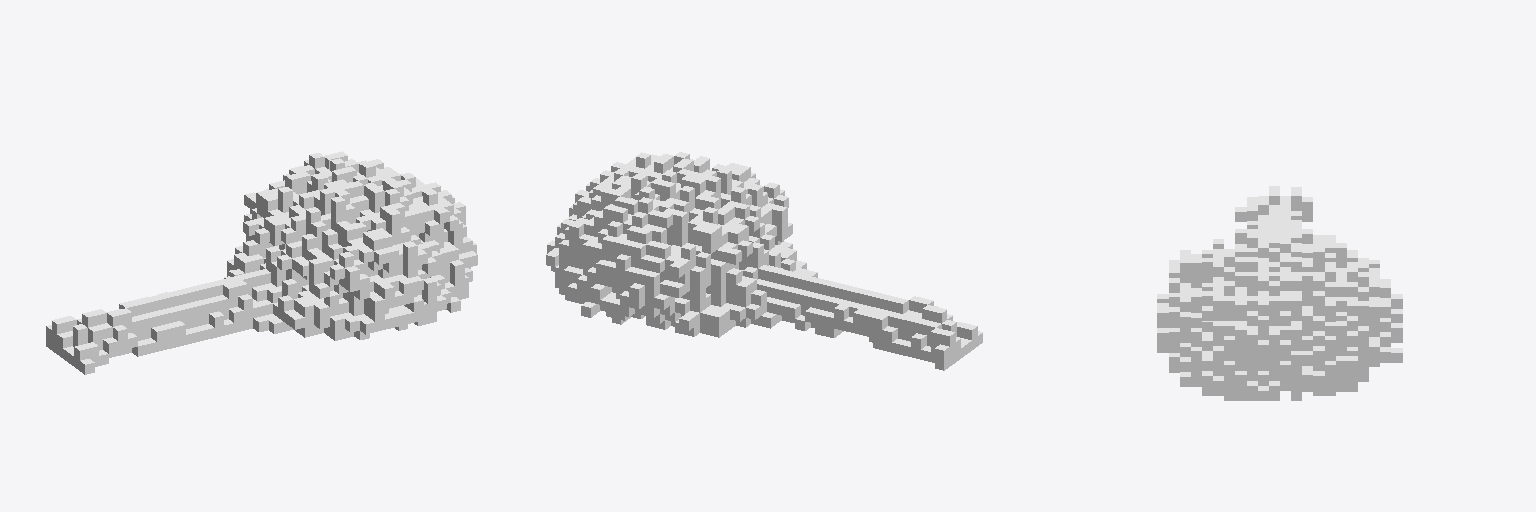
File: fallingtree.obj
3 renders of one model, left to right at view 1: azimuth 30°, elevation 25°; view 2: azimuth 150°, elevation 25°; view 3: azimuth 270°, elevation 25°, orthographic.
Visible parts, largest first — view 1: object 1; view 2: object 1; view 3: object 1.
Part boxes in pixels (x1,y1,x2,y2): object 1: (46,151,477,374); object 1: (546,152,982,370); object 1: (1157,186,1402,400).
Size of the model in its own units: 4 by 1.1 by 2.2.